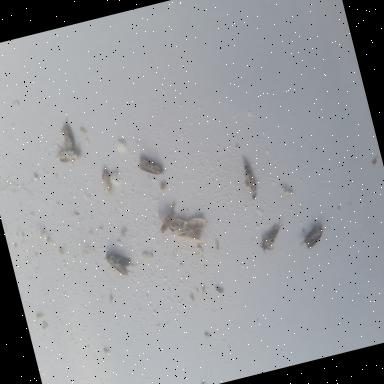pbw: (254, 222, 289, 255), (102, 246, 134, 280), (238, 156, 262, 196), (295, 222, 328, 250), (136, 152, 164, 180), (57, 115, 77, 150), (53, 146, 81, 164), (156, 210, 178, 232), (100, 166, 114, 196)
